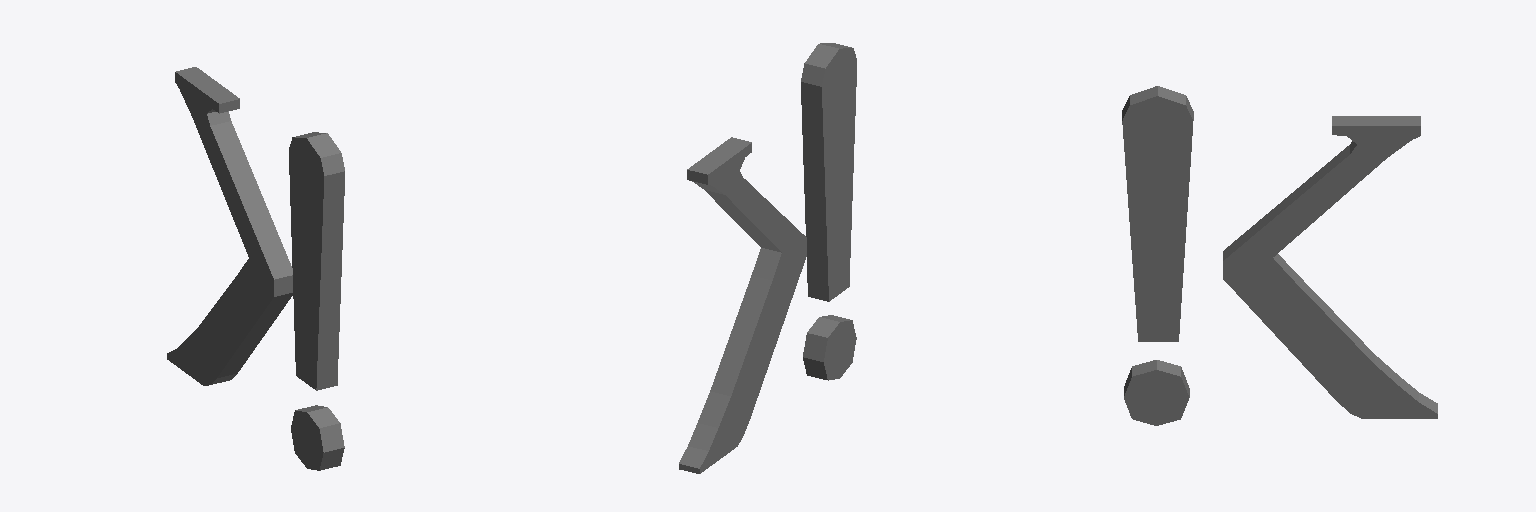
3 renders of one model, left to right at view 1: azimuth 30°, elevation 25°; view 2: azimuth 150°, elevation 25°; view 3: azimuth 270°, elevation 25°, orthographic.
Visible parts, largest first — view 1: Klick_Logo_Plane.008; view 2: Klick_Logo_Plane.008; view 3: Klick_Logo_Plane.008.
Boxes of the visible parts, x1,y1,x2,y2 form: Klick_Logo_Plane.008: [167, 67, 344, 470]; Klick_Logo_Plane.008: [679, 43, 856, 473]; Klick_Logo_Plane.008: [1122, 86, 1437, 425].
Bounding box in the file's own units: 0.3589 × 5.37 × 4.65.